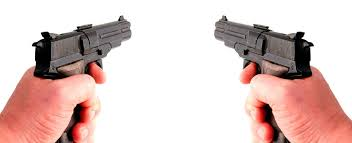gun: (213, 15, 318, 142), (31, 14, 132, 143)
